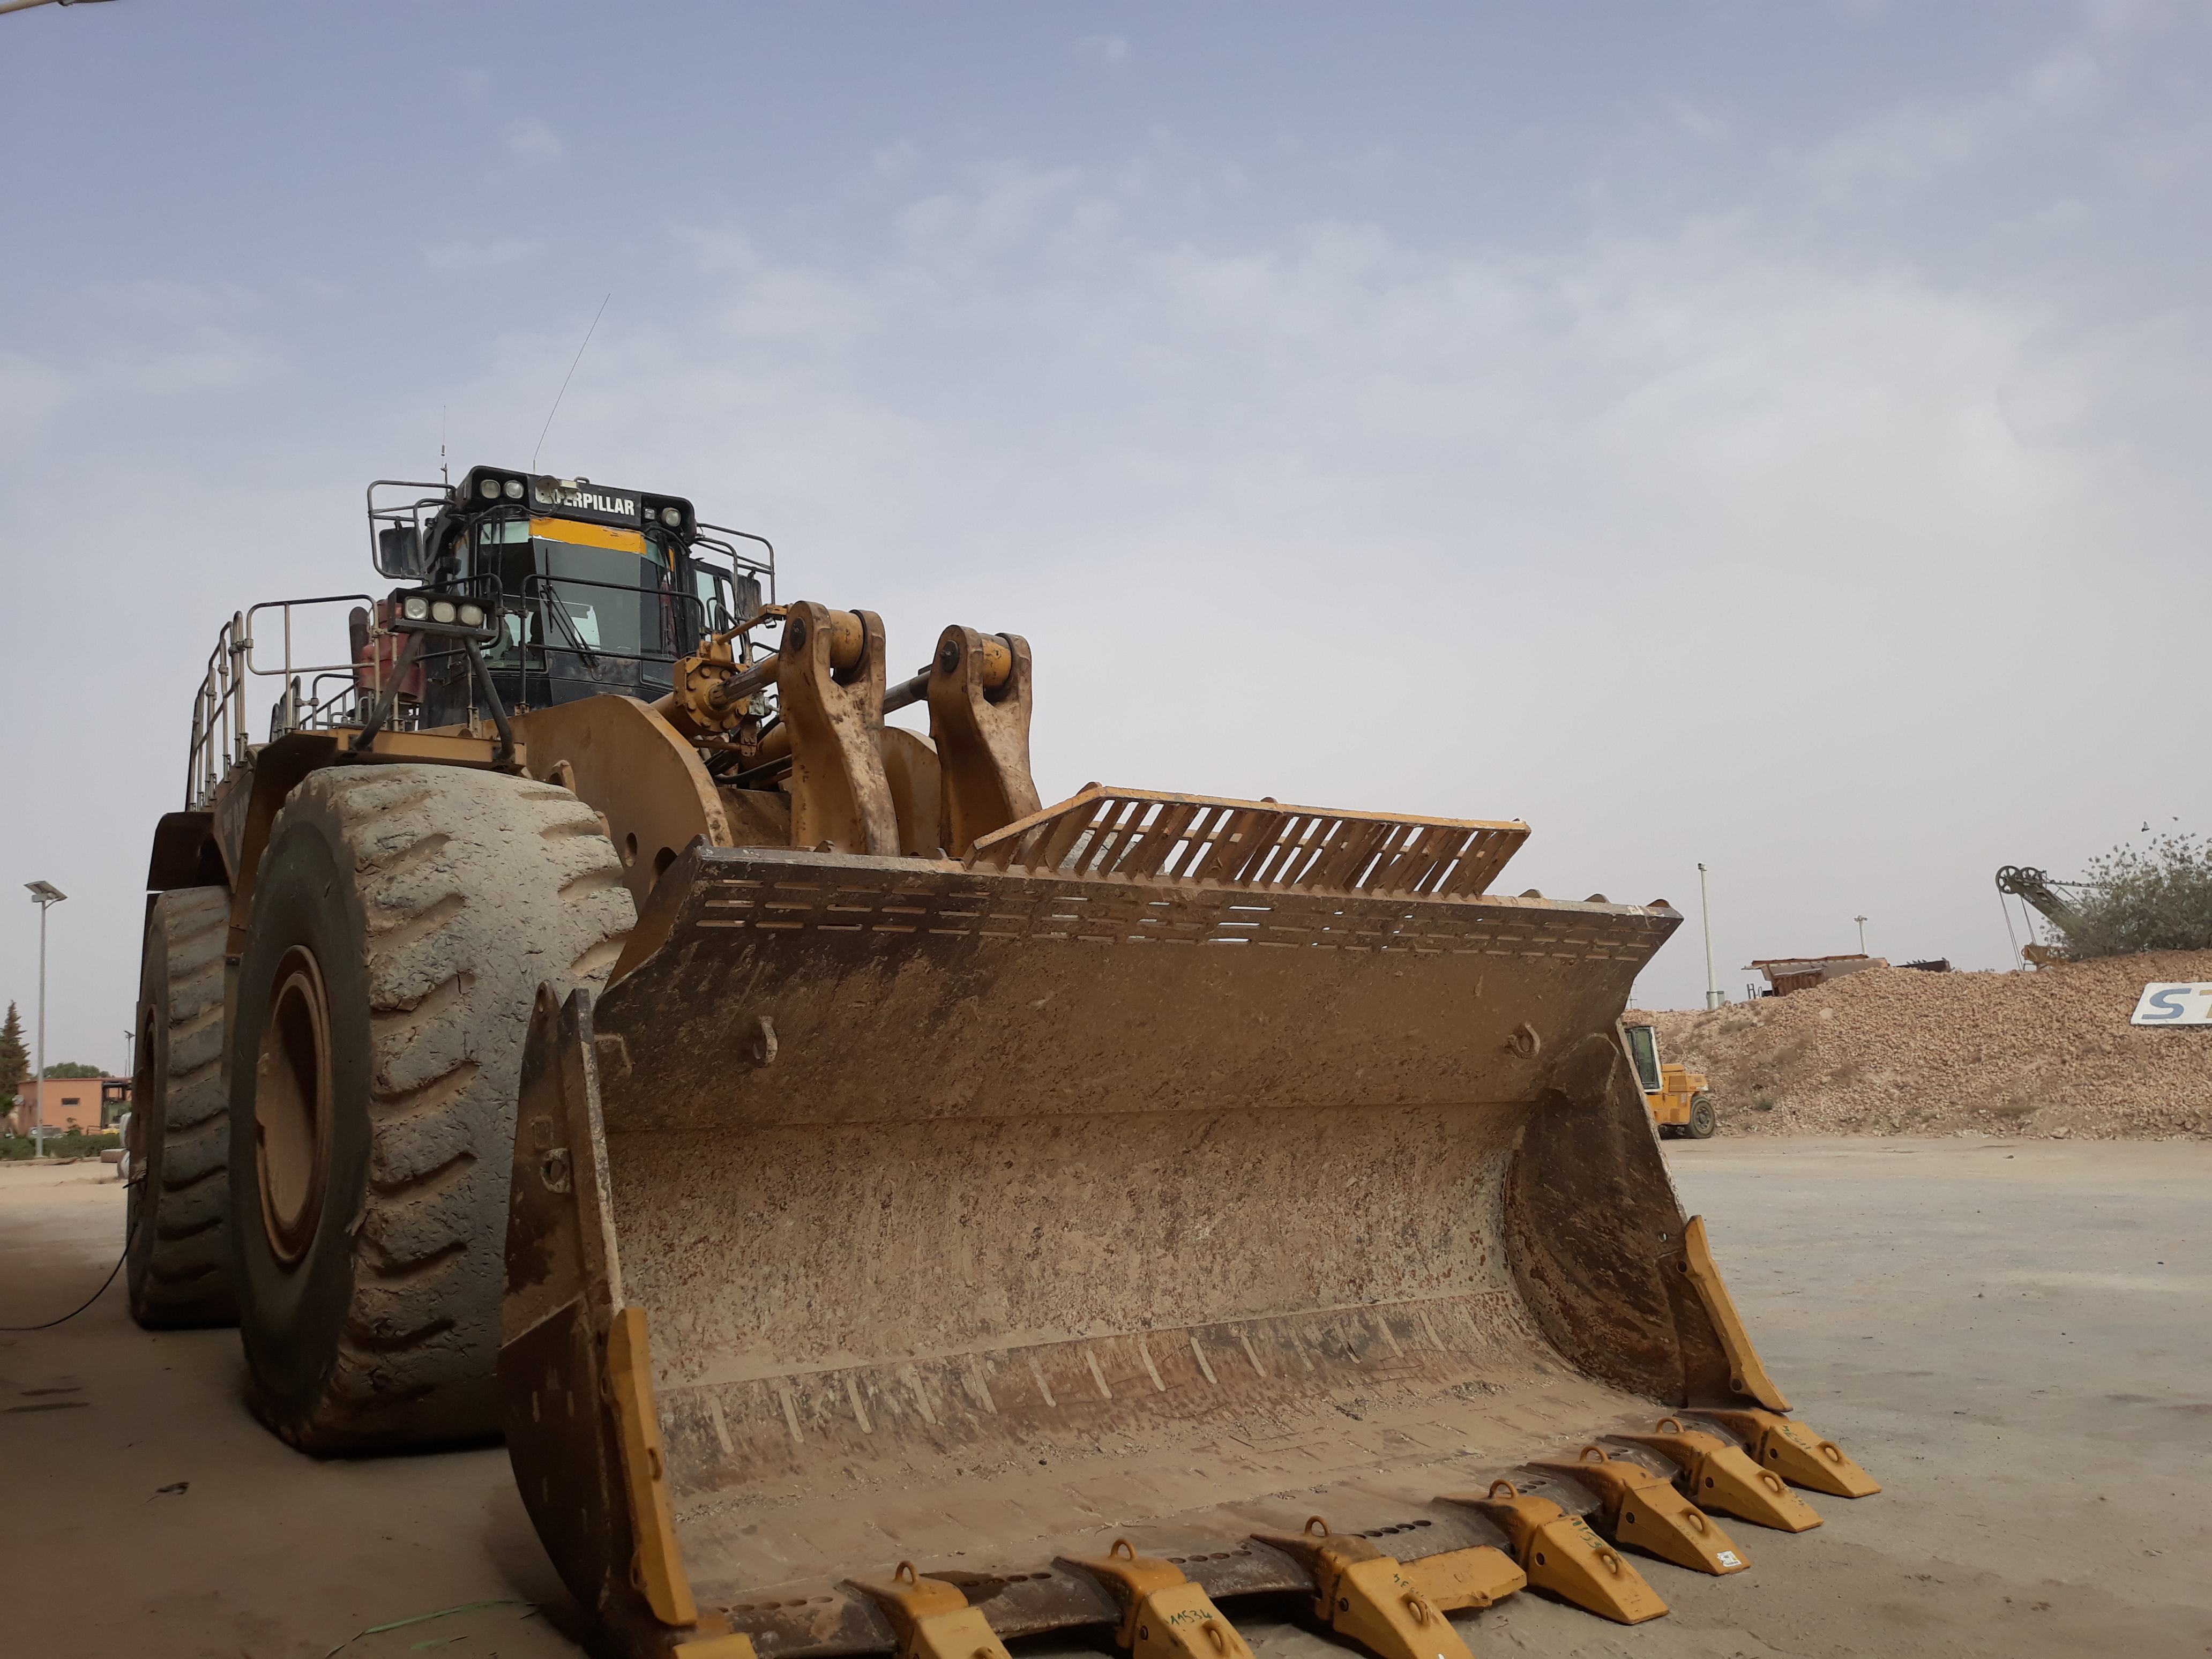chargeuse: (63, 464, 1811, 1619)
